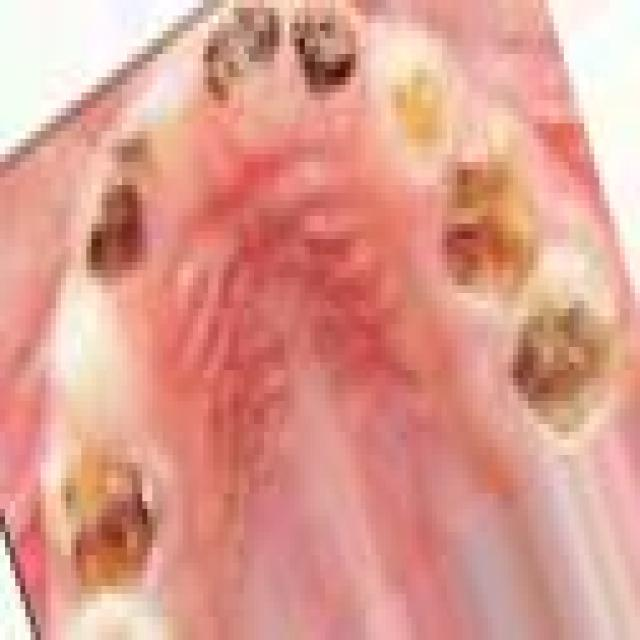caries: (501, 229, 624, 466), (38, 422, 191, 609), (435, 119, 536, 325), (77, 134, 171, 296), (369, 17, 452, 192), (198, 0, 284, 123), (286, 0, 369, 120)
